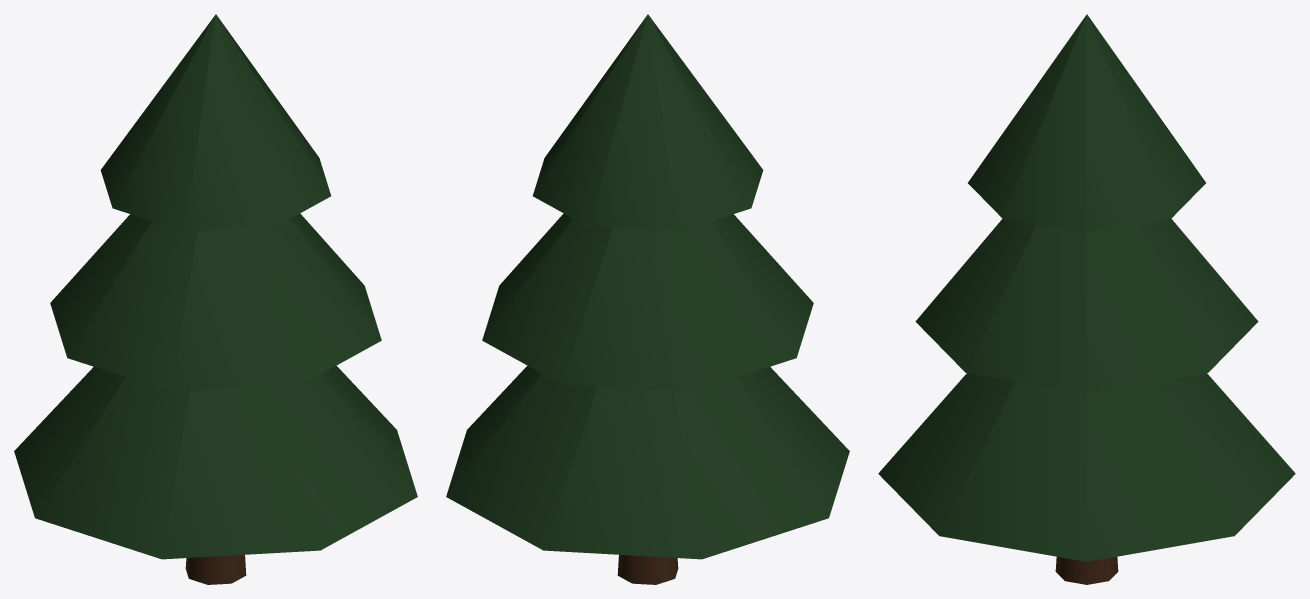
File: pine_tree.glb
3 renders of one model, left to right at view 1: azimuth 30°, elevation 25°; view 2: azimuth 150°, elevation 25°; view 3: azimuth 270°, elevation 25°, orthographic.
Size of the model in its own units: 5.6 by 8.25 by 5.6.
